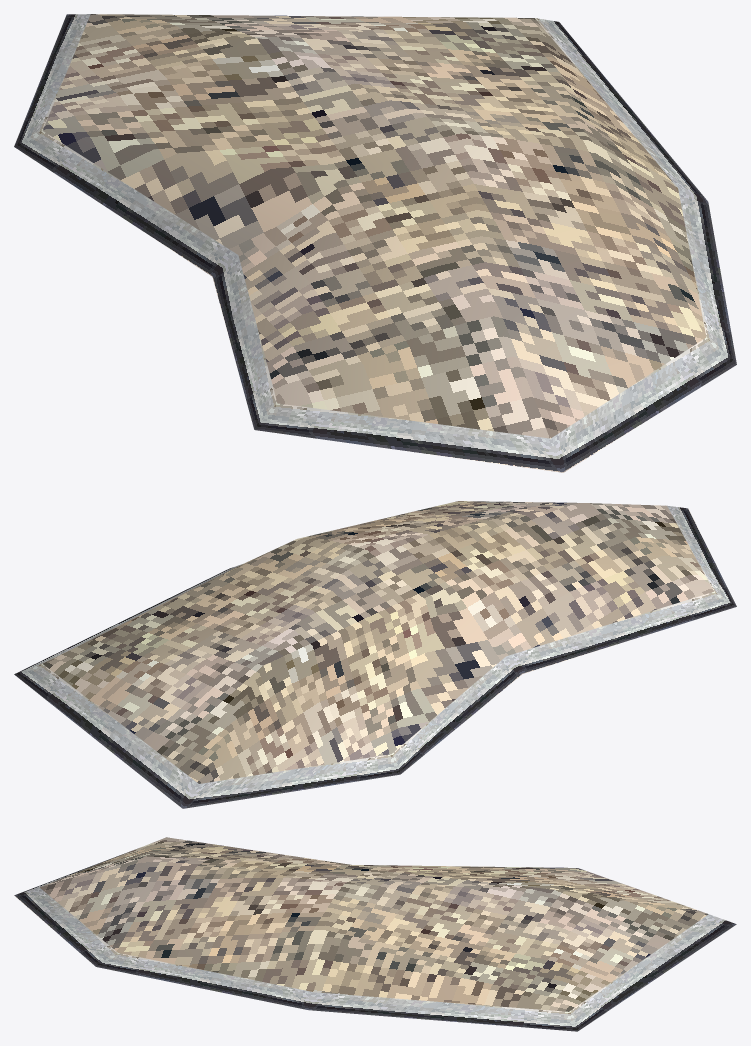
Rendered from Environment - Prop - Berm 01 - PMBerm01.glb.
3 views of the same model, one above another, from view 1: azimuth 30°, elevation 25°; view 2: azimuth 150°, elevation 25°; view 3: azimuth 270°, elevation 25° (orthographic). The views are drawn at different scales.
Parts seen in each view (by area): view 1: PMBERM01; view 2: PMBERM01; view 3: PMBERM01.
Boxes of the visible parts, <box> form: PMBERM01: <box>14,14,736,472</box>; PMBERM01: <box>14,501,736,808</box>; PMBERM01: <box>14,837,736,1031</box>.
Size of the model in its own units: 20.98 by 3.13 by 33.37.
1 material, 1 textured.
